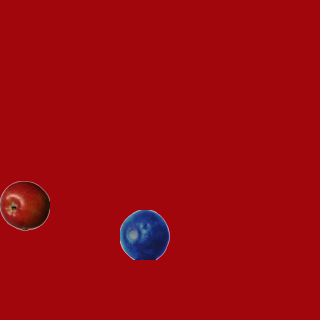Apple Braeburn: (0, 180, 49, 230)
Huckleberry: (119, 209, 169, 259)
